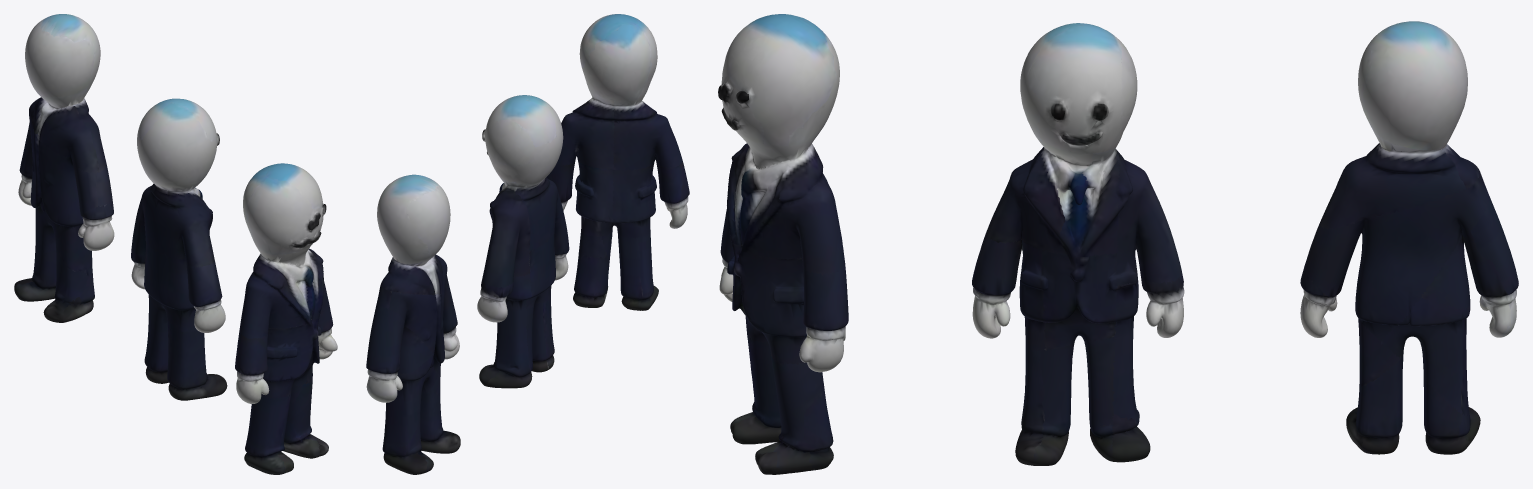
The model's file is juror.glb.
3 views of the same model, side by side, from view 1: azimuth 30°, elevation 25°; view 2: azimuth 150°, elevation 25°; view 3: azimuth 270°, elevation 25° (orthographic). The views are drawn at different scales.
Parts seen in each view (by area): view 1: tripo_node_0e23e42b-a4d2-4e79-a5d4-89e66f5e87c6; view 2: tripo_node_0e23e42b-a4d2-4e79-a5d4-89e66f5e87c6; view 3: tripo_node_0e23e42b-a4d2-4e79-a5d4-89e66f5e87c6.
Boxes of the visible parts, x1,y1,x2,y2 form: tripo_node_0e23e42b-a4d2-4e79-a5d4-89e66f5e87c6: [14, 14, 337, 474]; tripo_node_0e23e42b-a4d2-4e79-a5d4-89e66f5e87c6: [366, 14, 689, 474]; tripo_node_0e23e42b-a4d2-4e79-a5d4-89e66f5e87c6: [718, 14, 1518, 474].
Bounding box in the file's own units: 0.7415 × 1.7 × 2.88.
Materials: 1 (1 with a texture image).
